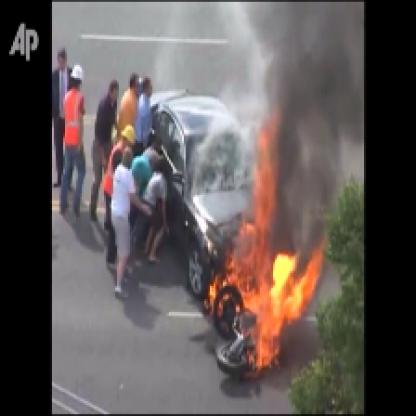Fire: (206, 113, 320, 383)
Smoke: (284, 2, 346, 210)
